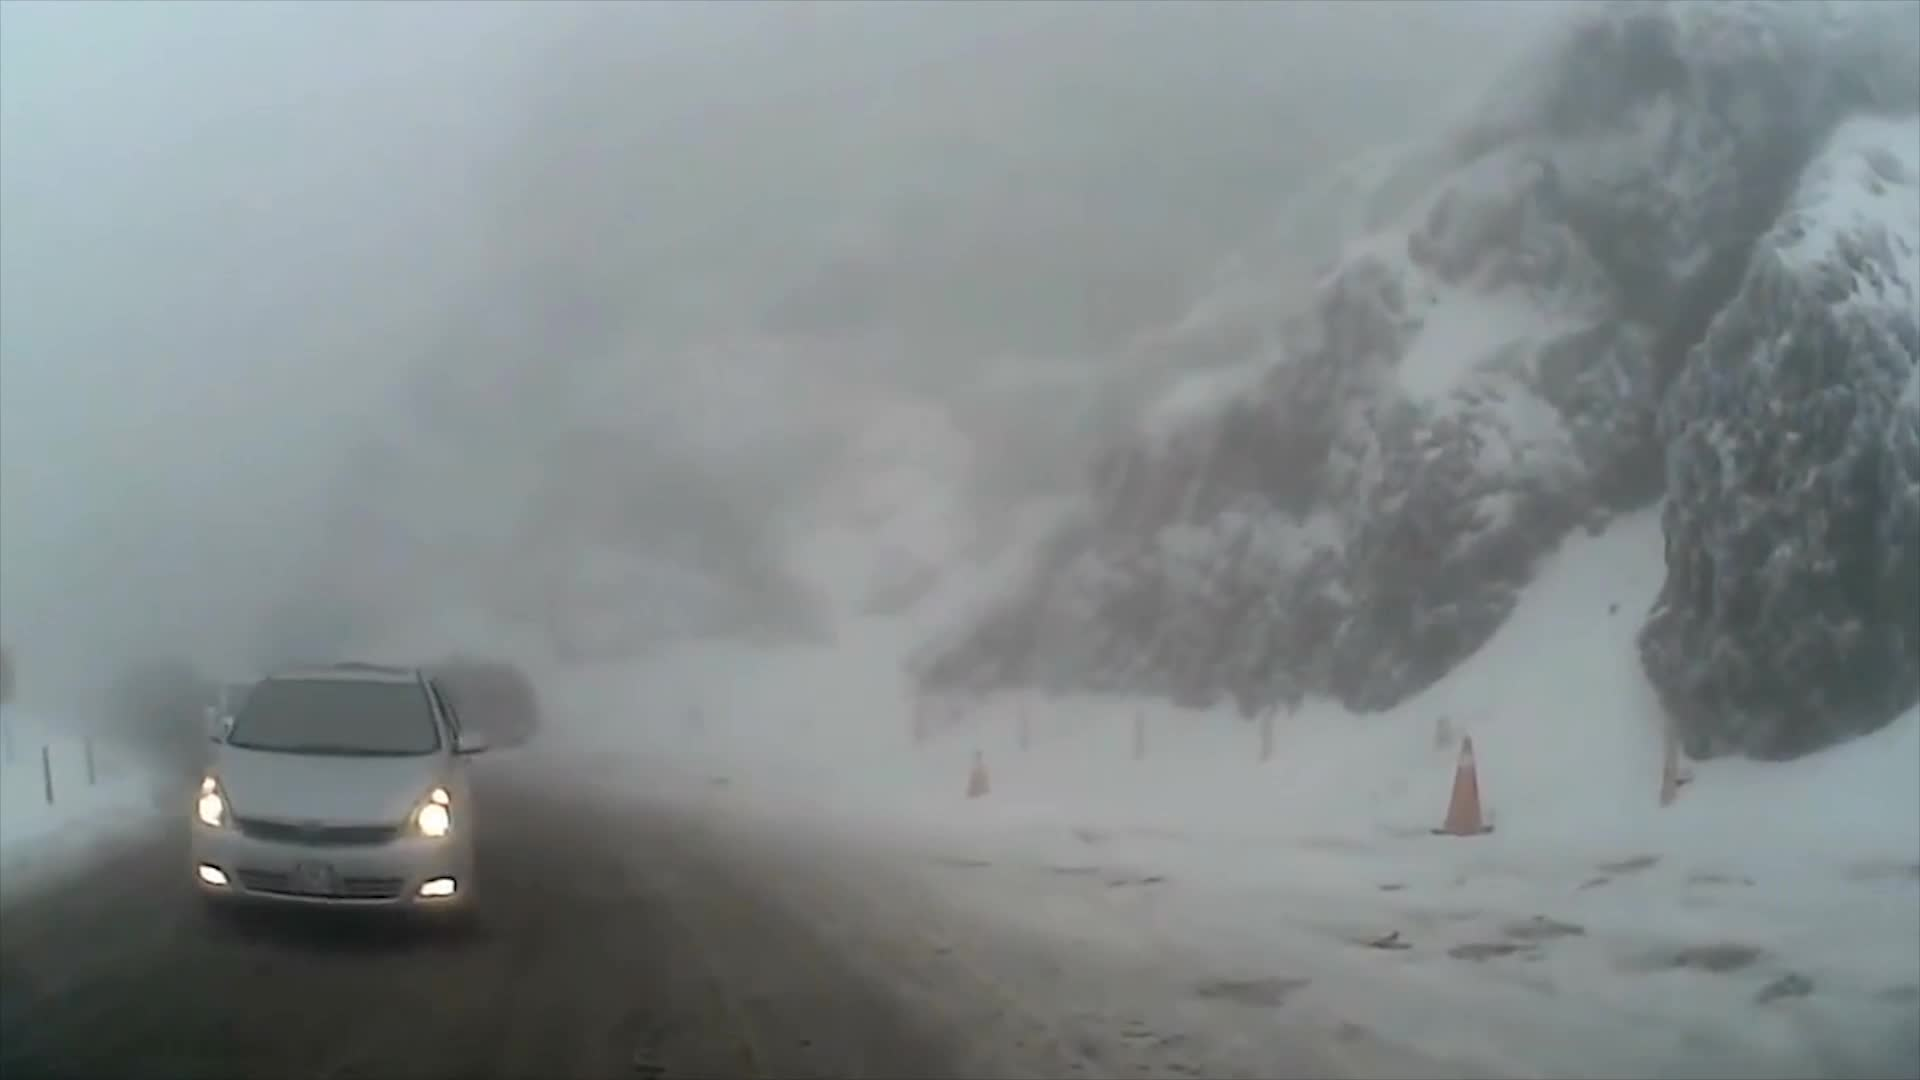vehicle: (185, 661, 489, 942)
